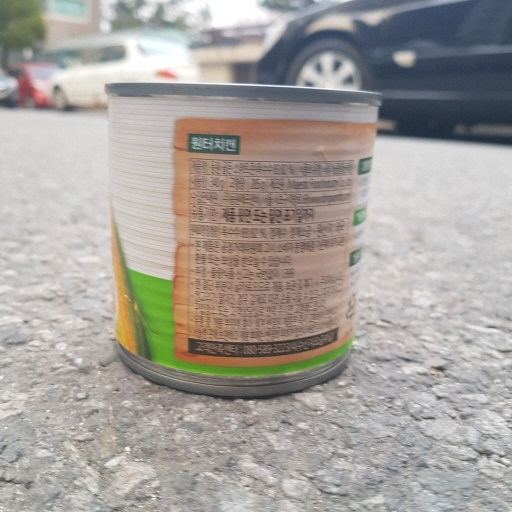Metal_1: (102, 80, 384, 395)
